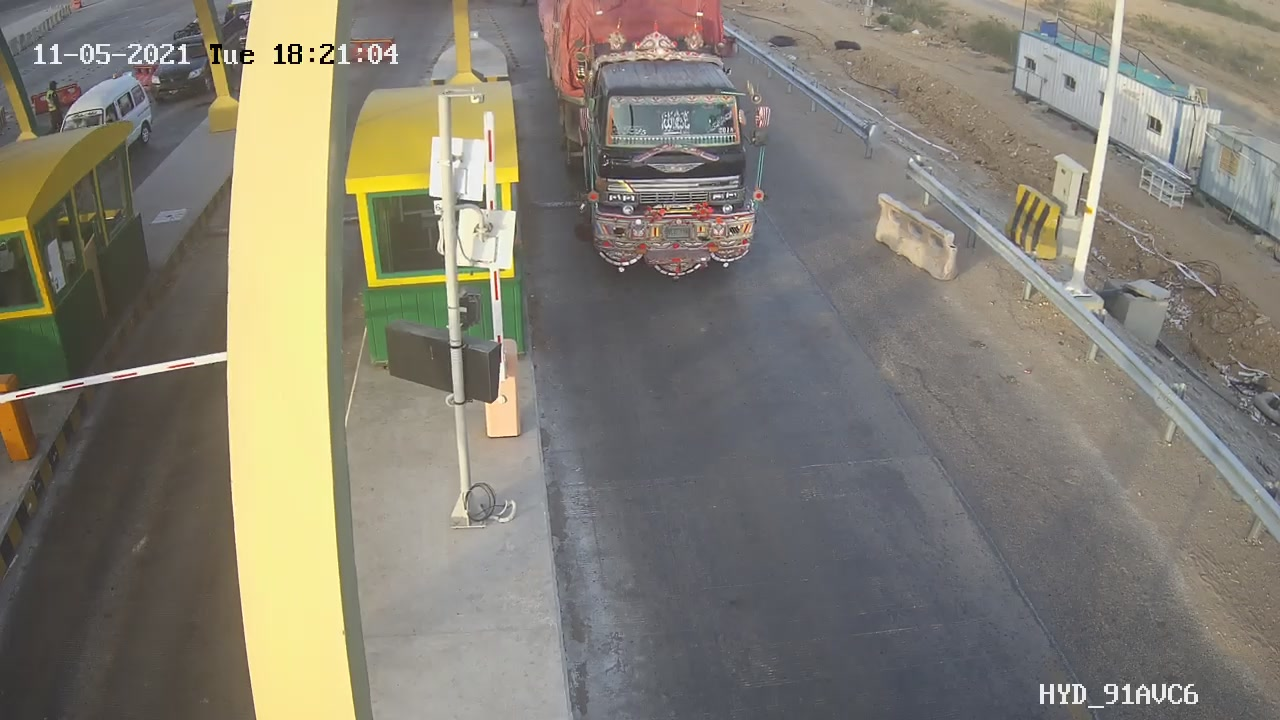F6: (546, 6, 787, 273)
